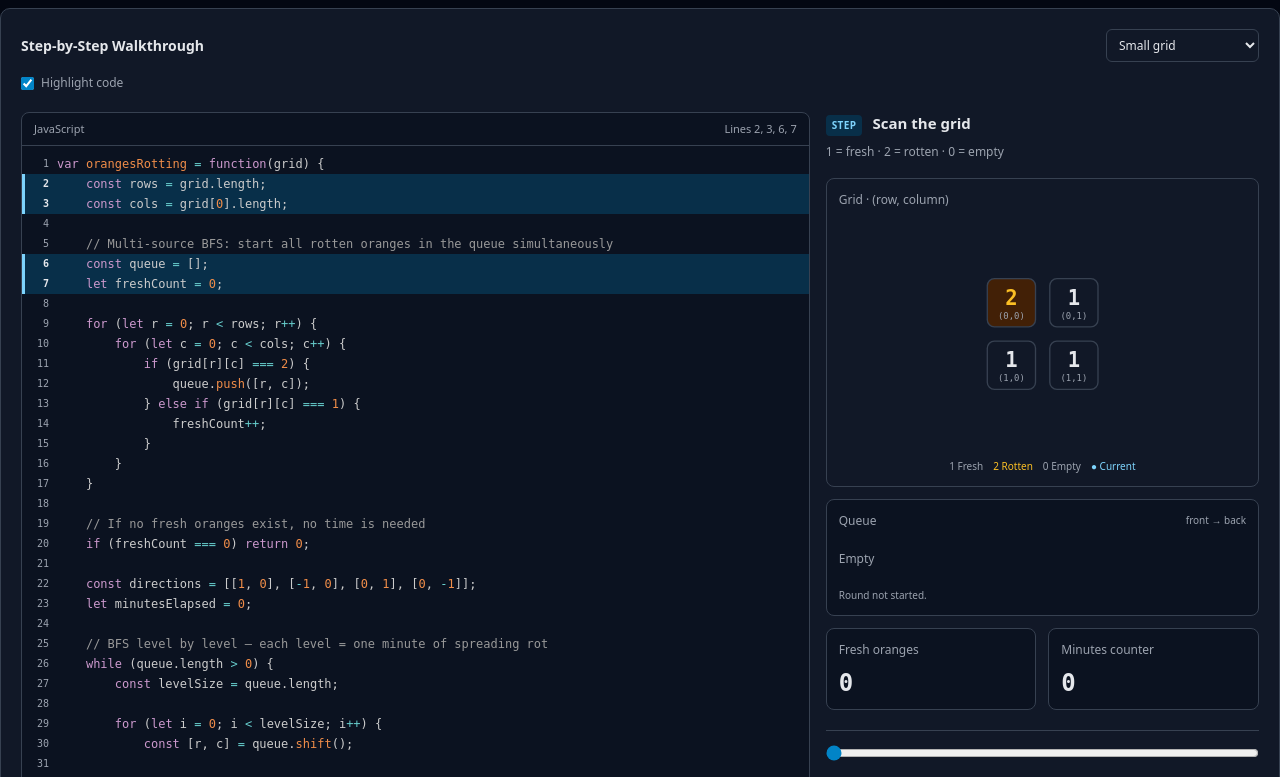
Test case: interactive traversal walkthroughs › shows out-of-bounds checks, then resets when changing the graph example
Set the slider named "Rotting oranges step" to "10". click: (953,752)
box: [826,744,1259,760]
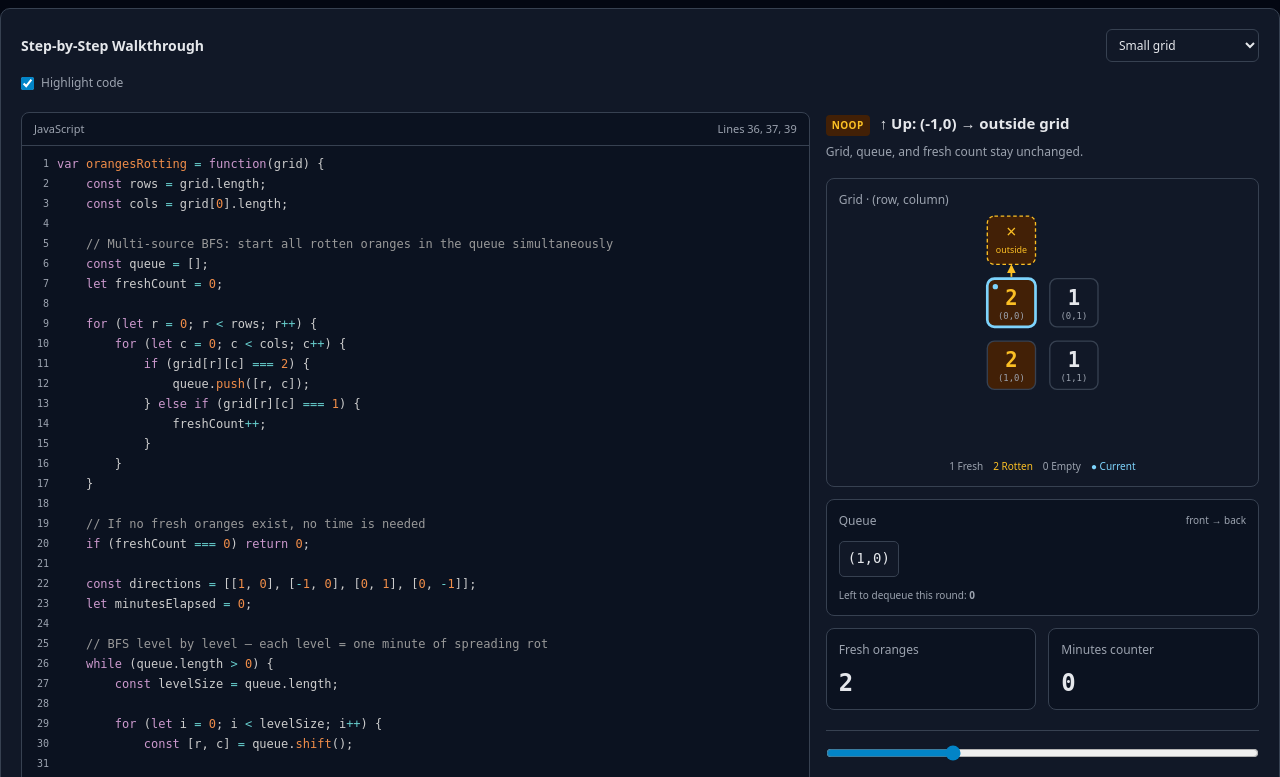
expect the message shows "NOOP": met, box [832,118,864,132]
expect the text named "Fresh oranges: 2" is shown: met, box [839,668,853,696]
Select "Unreachable orange" in the dropdown named "Rotting oranges example". click: (1182,46)
box: [1106,29,1259,62]
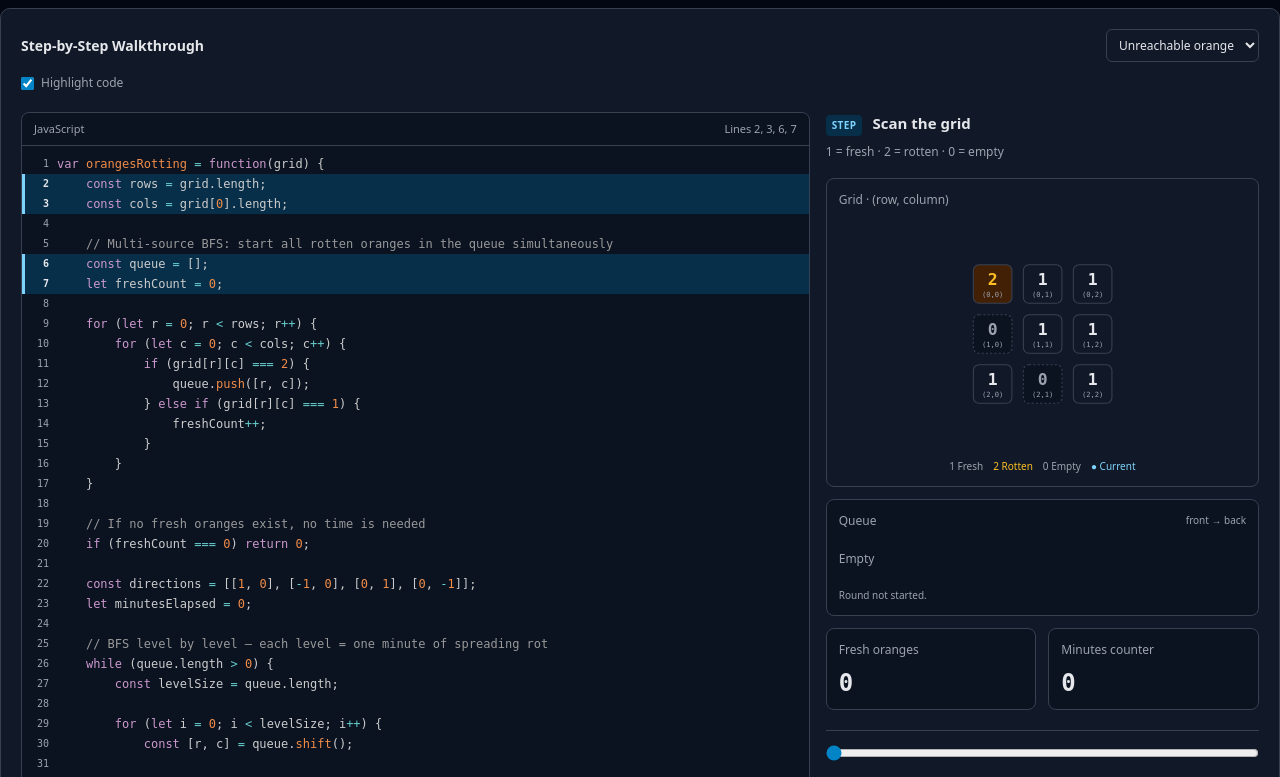
expect the slider named "Rotting oranges step" holds "0": met
Set the slider named "Rotting oranges step" to "56". click: (1251,752)
box: [826,744,1259,760]
(page scrolled)
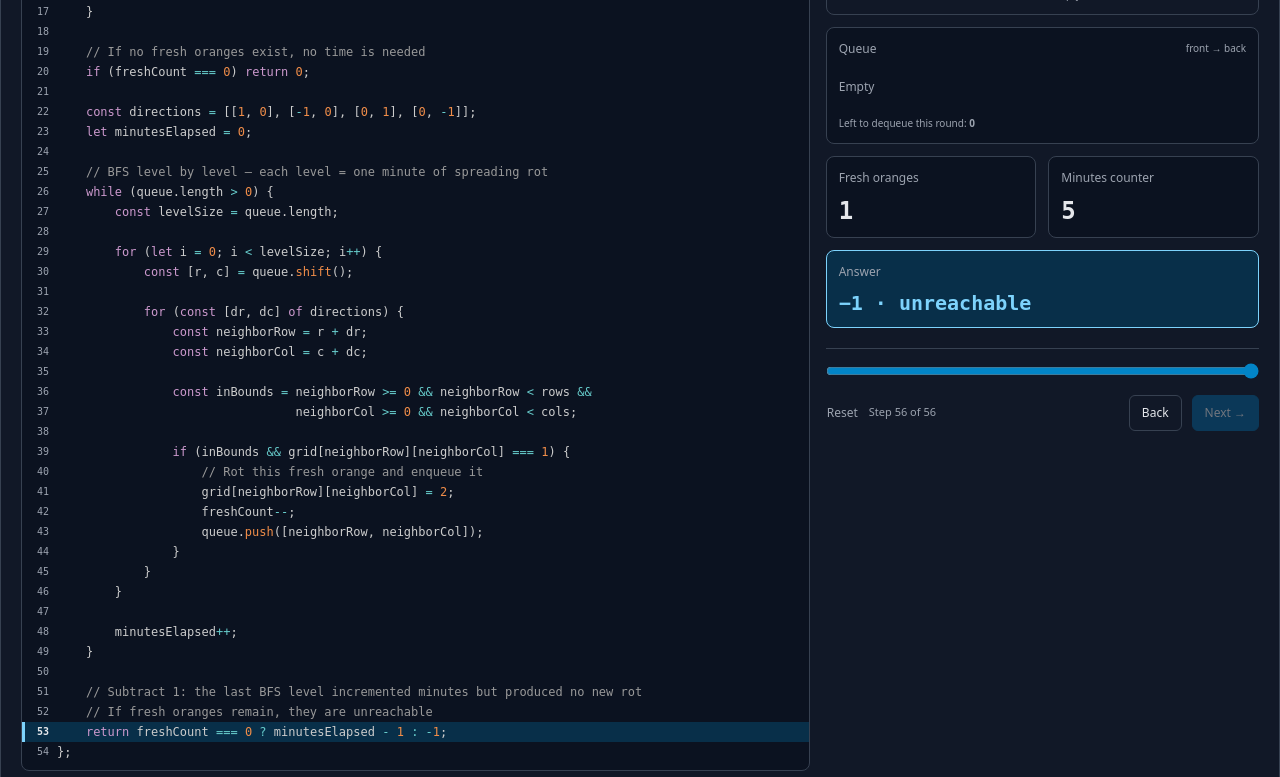
expect the text named "Answer: -1" is shown: met, box [839,290,1031,314]
expect the button "Next →" is disabled: met, box [1192,394,1259,430]
